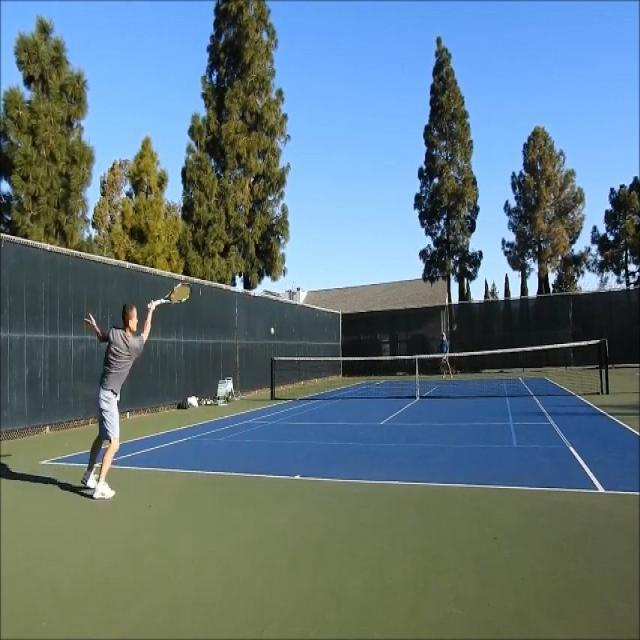court: (38, 378, 640, 494)
net: (268, 338, 611, 399)
player: (81, 282, 192, 500)
